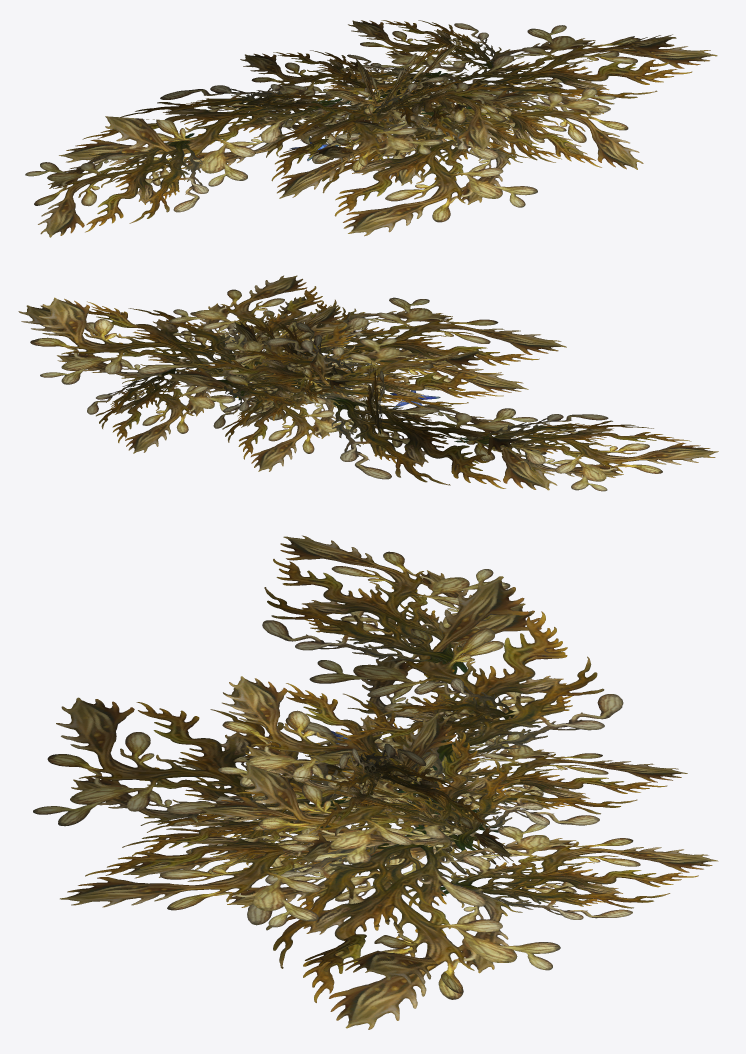
Rendered from borean_seaweed_02.obj.
The picture shows the model from 3 angles, top to bottom: view 1: azimuth 30°, elevation 25°; view 2: azimuth 150°, elevation 25°; view 3: azimuth 270°, elevation 25°; orthographic projection. The views are drawn at different scales.
Visible parts, largest first — view 1: Geoset1; view 2: Geoset1; view 3: Geoset1.
Part boxes in pixels (x1,y1,x2,y2): Geoset1: (25,20,717,237); Geoset1: (18,275,718,491); Geoset1: (33,535,718,1029).
Bounding box in the file's own units: 12.86 × 1.85 × 7.71.
Materials: 2 (2 with a texture image).
